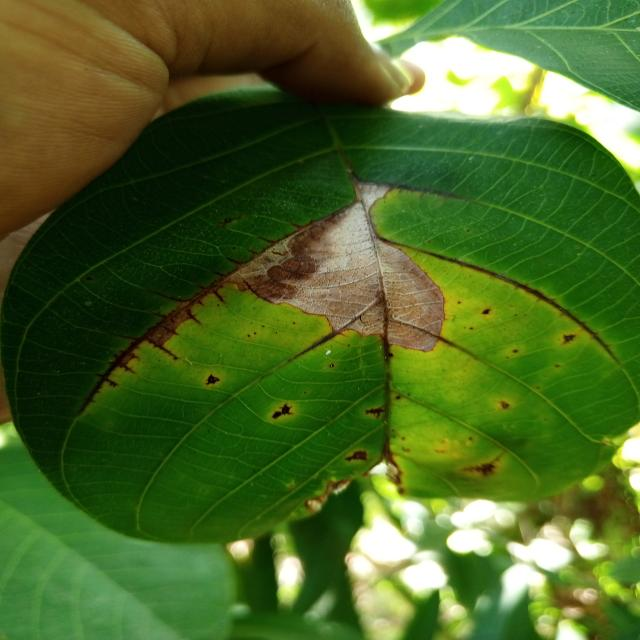Colletotrichum: (330, 364, 334, 368)
Corynespora: (77, 201, 356, 416), (380, 236, 615, 358), (350, 171, 469, 200), (290, 329, 341, 362), (272, 402, 294, 418), (220, 212, 243, 226), (364, 407, 386, 418), (206, 373, 220, 385)
Leaf-Blight: (224, 184, 446, 352)
